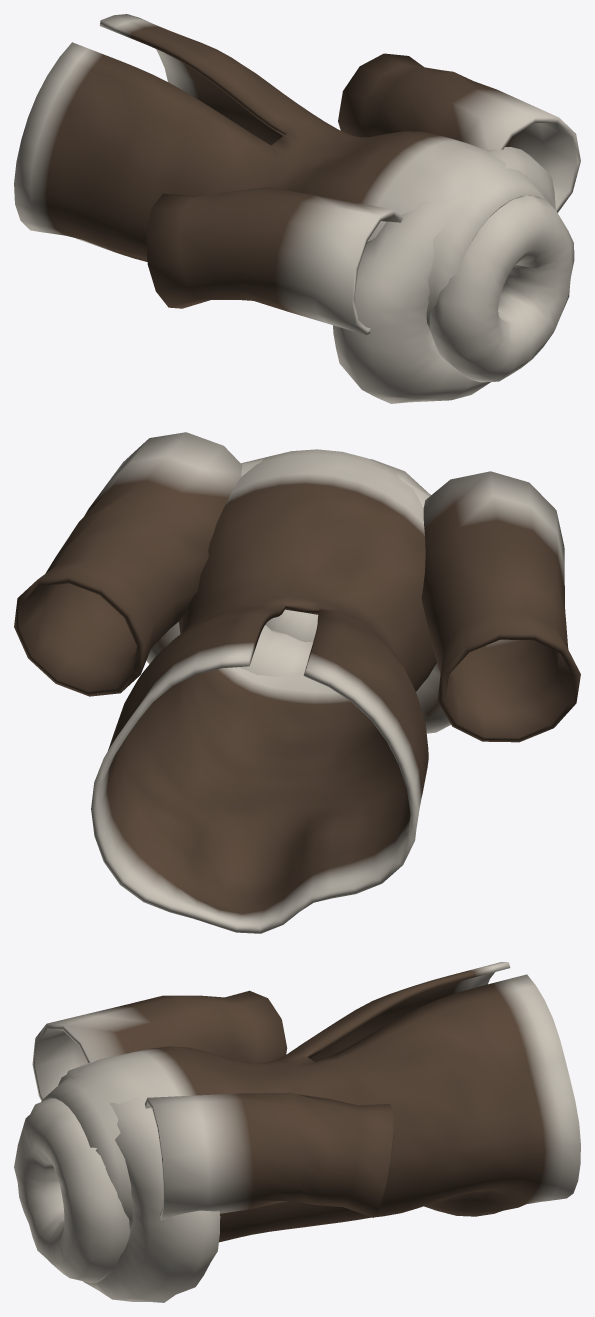
File: Casaco.glb
3 renders of one model, top to bottom at view 1: azimuth 30°, elevation 25°; view 2: azimuth 150°, elevation 25°; view 3: azimuth 270°, elevation 25°, orthographic. The views are drawn at different scales.
Visible parts, largest first — view 1: Casaco; view 2: Casaco; view 3: Casaco.
Part boxes in pixels (left/top/right/bottom): Casaco: left=14, top=14, right=580, bottom=403; Casaco: left=14, top=432, right=580, bottom=933; Casaco: left=14, top=962, right=580, bottom=1302.
Size of the model in its own units: 0.9358 by 0.5529 by 1.16.
